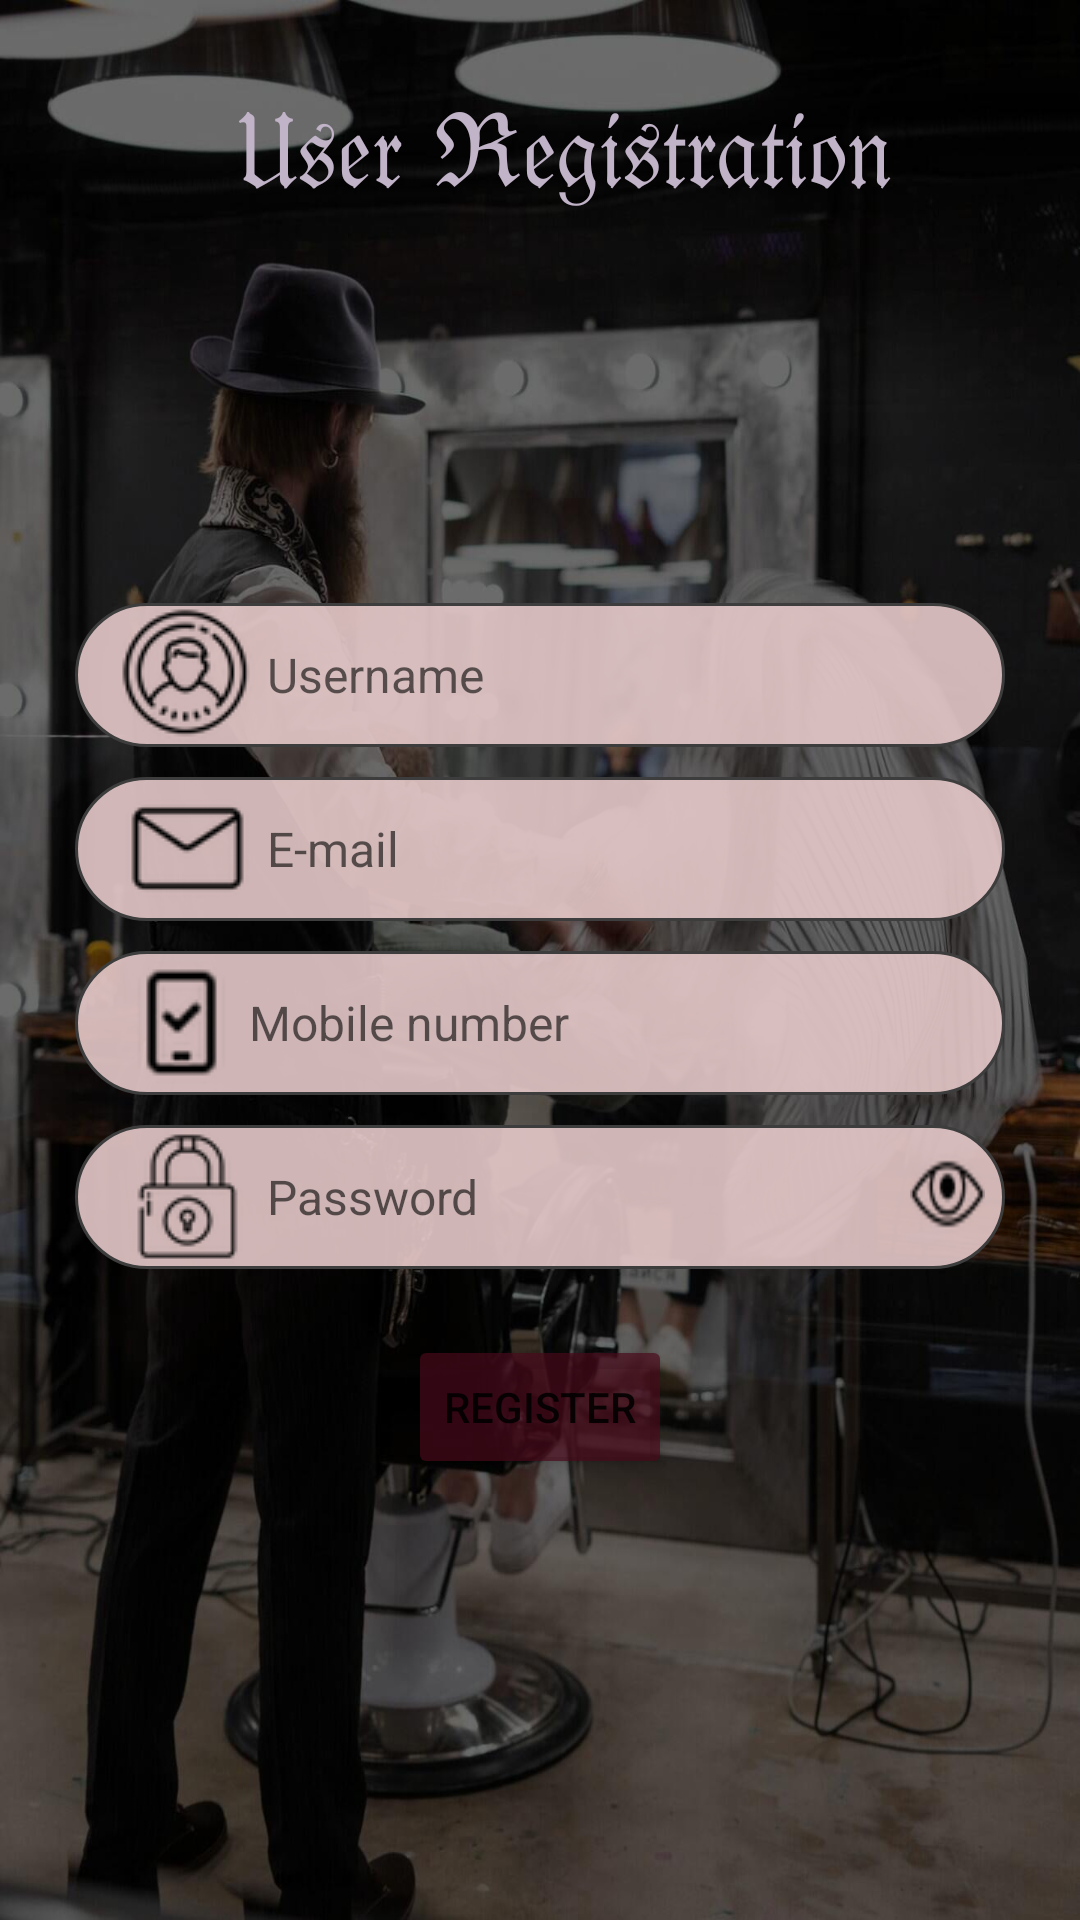

Point at icon controls on the screen. Image size 1080w x 1920h, points as (x=x, y=y).
eyeicon: (x=947, y=1194)
